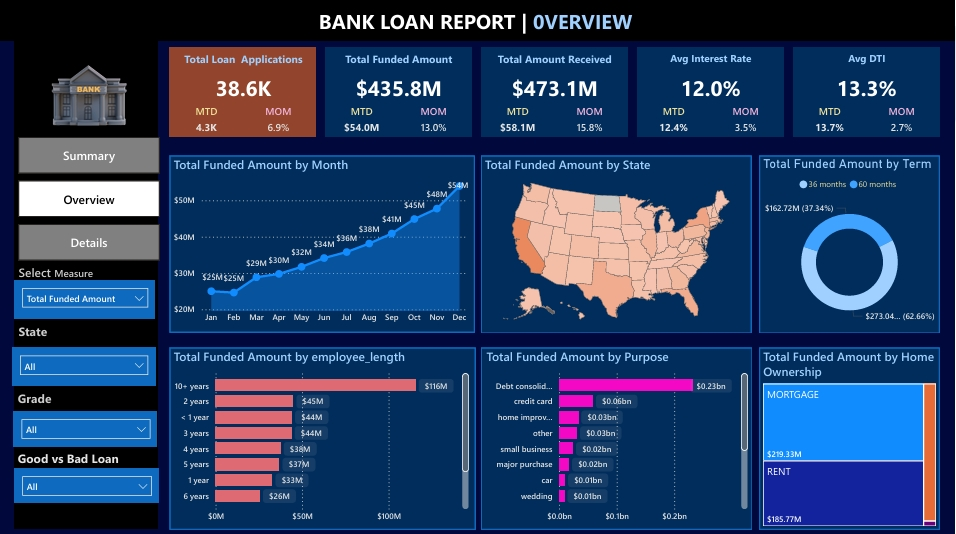

Layout of this report page (visuals, bound fields, positions):
{"tool":"powerbi","page":{"name":"Overview","canvas":[1280,720],"ordinal":1},"visuals":[{"type":"shape","box":[25.4,41.4,190.9,664.9],"z":0},{"type":"shape","box":[0,0,1280.4,55.7],"z":1000},{"type":"shape","box":[231.6,63.6,195.6,119.3],"z":1000,"group":"g1"},{"type":"shape","box":[439.3,63.6,195.6,119.3],"z":1000,"group":"g2"},{"type":"shape","box":[647.1,63.6,195.6,119.3],"z":1000,"group":"g3"},{"type":"shape","box":[854.8,63.6,195.6,119.3],"z":1000,"group":"g4"},{"type":"shape","box":[1062.5,63.6,195.6,119.3],"z":1000,"group":"g5"},{"type":"textbox","box":[413.6,4.8,451.7,47.7],"z":2000},{"type":"group","id":"g1","title":"Group 1","box":[231.6,63.6,195.6,119.3],"z":3000},{"type":"group","id":"g2","title":"Group 1","box":[439.3,63.6,195.6,119.3],"z":4000},{"type":"card","fields":{"Values":["bank_loan_data.Total Loan Applications"]},"box":[231.6,98.6,195.6,36.6],"z":4000,"group":"g1"},{"type":"card","fields":{"Values":["bank_loan_data.Total Funded Amount"]},"box":[439.3,98.6,195.6,36.6],"z":4000,"group":"g2"},{"type":"card","fields":{"Values":["bank_loan_data.Total Amount Received"]},"box":[647.1,98.6,195.6,36.6],"z":4000,"group":"g3"},{"type":"card","fields":{"Values":["bank_loan_data.Avg Interest Rate"]},"box":[854.8,98.6,195.6,36.6],"z":4000,"group":"g4"},{"type":"card","fields":{"Values":["bank_loan_data.Avg DTI"]},"box":[1062.5,98.6,195.6,36.6],"z":4000,"group":"g5"},{"type":"textbox","box":[231.6,63.6,195.6,35],"z":5000,"group":"g1"},{"type":"textbox","box":[439.3,63.6,195.6,35],"z":5000,"group":"g2"},{"type":"group","id":"g3","title":"Group 1","box":[647.1,63.6,195.6,119.3],"z":5000},{"type":"textbox","box":[647.1,63.6,195.6,35],"z":5000,"group":"g3"},{"type":"textbox","box":[854.8,63.6,195.6,35],"z":5000,"group":"g4"},{"type":"textbox","box":[1062.5,63.6,195.6,35],"z":5000,"group":"g5"},{"type":"group","id":"g4","title":"Group 1","box":[854.8,63.6,195.6,119.3],"z":6000},{"type":"card","title":"MTD","fields":{"Values":["bank_loan_data.MTD Loan Applications"]},"box":[245.9,139.9,68.4,42.9],"z":6000,"group":"g1"},{"type":"card","title":"MTD","fields":{"Values":["bank_loan_data.MTD Funded Amount"]},"box":[453.6,139.9,68.4,42.9],"z":6000,"group":"g2"},{"type":"card","title":"MTD","fields":{"Values":["bank_loan_data.MTD Total Amount Received"]},"box":[661.4,139.9,68.4,42.9],"z":6000,"group":"g3"},{"type":"card","title":"MTD","fields":{"Values":["bank_loan_data.MTD Avg Int Rate"]},"box":[869.1,139.9,68.4,42.9],"z":6000,"group":"g4"},{"type":"card","title":"MTD","fields":{"Values":["bank_loan_data.MTD Avg DTI"]},"box":[1076.8,139.9,68.4,42.9],"z":6000,"group":"g5"},{"type":"group","id":"g5","title":"Group 1","box":[1062.5,63.6,195.6,119.3],"z":7000},{"type":"card","title":"MOM","fields":{"Values":["bank_loan_data.MOM Loan Application"]},"box":[342.9,139.9,66.8,42.9],"z":7000,"group":"g1"},{"type":"card","title":"MOM","fields":{"Values":["bank_loan_data.MOM Total Funded Application"]},"box":[550.6,139.9,66.8,42.9],"z":7000,"group":"g2"},{"type":"card","title":"MOM","fields":{"Values":["bank_loan_data.MOM Amount Received"]},"box":[758.4,139.9,66.8,42.9],"z":7000,"group":"g3"},{"type":"card","title":"MOM","fields":{"Values":["bank_loan_data.MOM Total Avg Int Rate"]},"box":[966.1,139.9,66.8,42.9],"z":7000,"group":"g4"},{"type":"card","title":"MOM","fields":{"Values":["bank_loan_data.MOM Avg DTI"]},"box":[1173.8,139.9,66.8,42.9],"z":7000,"group":"g5"},{"type":"slicer","fields":{"Values":["bank_loan_data.address_state"]},"box":[22.3,464.5,190.9,50.9],"z":8000},{"type":"textbox","box":[25.4,426.3,70,38.2],"z":9000},{"type":"slicer","fields":{"Values":["bank_loan_data.grade"]},"box":[23.9,548.8,192.5,47.7],"z":10000},{"type":"textbox","box":[23.9,515.4,71.6,33.4],"z":11000},{"type":"slicer","fields":{"Values":["bank_loan_data.Good vs Bad Loan"]},"box":[25.4,625.1,192.5,46.1],"z":12000},{"type":"textbox","box":[23.9,596.5,144.7,39.8],"z":13000},{"type":"shape","box":[232.2,208.4,406,235],"z":14000},{"type":"areaChart","fields":{"Y":["bank_loan_data.Total Funded Amount"],"Category":["Date Table.Month"]},"box":[232.2,208.4,402.4,232.2],"z":15000},{"type":"slicer","fields":{"Values":["Select Measure.Select Measure"]},"box":[25.4,373.8,187.7,52.5],"z":16000},{"type":"textbox","box":[25.4,346.8,117.7,41.4],"z":17000},{"type":"shape","box":[647.4,208.4,360,235.4],"z":18000},{"type":"shapeMap","fields":{"Value":["bank_loan_data.Total Funded Amount"],"Category":["bank_loan_data.address_state"]},"box":[647.4,208.4,359.5,232.2],"z":19000},{"type":"shape","box":[1018,208.4,240.2,235.4],"z":20000},{"type":"donutChart","fields":{"Y":["bank_loan_data.Total Funded Amount"],"Category":["bank_loan_data.term"]},"box":[1018,208.4,240.2,237],"z":21000},{"type":"shape","box":[232.2,464.5,407.2,241.8],"z":22000},{"type":"barChart","fields":{"Y":["bank_loan_data.Total Funded Amount"],"Category":["bank_loan_data.emp_length"]},"box":[232.2,464.5,402.4,241.8],"z":23000},{"type":"shape","box":[647.4,464.5,361.1,241.8],"z":24000},{"type":"barChart","fields":{"Y":["bank_loan_data.Total Funded Amount"],"Category":["bank_loan_data.purpose"]},"box":[649,464.5,357.9,241.8],"z":25000},{"type":"shape","box":[1018,464.5,240.2,241.8],"z":26000},{"type":"treemap","fields":{"Values":["bank_loan_data.Total Funded Amount"],"Group":["bank_loan_data.home_ownership"]},"box":[1018,464.5,240.2,241.8],"z":27000},{"type":"pageNavigator","box":[30.2,182.9,187.7,163.8],"z":28000},{"type":"image","box":[30.2,63.6,186.1,119.3],"z":29000}]}

Visuals, with their boxes in screenshot pixels (x1, y1, x2, y2), scaled from the page's 1280x720 canvas onto the 956x534 screenshot:
shape: 19 31 162 524
shape: 0 0 955 41
shape: 173 47 319 136
shape: 328 47 474 136
shape: 483 47 629 136
shape: 638 47 785 136
shape: 794 47 940 136
textbox: 309 4 646 39
"Group 1" group: 173 47 319 136
"Group 1" group: 328 47 474 136
card - bank_loan_data.Total Loan Applications: 173 73 319 100
card - bank_loan_data.Total Funded Amount: 328 73 474 100
card - bank_loan_data.Total Amount Received: 483 73 629 100
card - bank_loan_data.Avg Interest Rate: 638 73 785 100
card - bank_loan_data.Avg DTI: 794 73 940 100
textbox: 173 47 319 73
textbox: 328 47 474 73
"Group 1" group: 483 47 629 136
textbox: 483 47 629 73
textbox: 638 47 785 73
textbox: 794 47 940 73
"Group 1" group: 638 47 785 136
"MTD" card: 184 104 235 136
"MTD" card: 339 104 390 136
"MTD" card: 494 104 545 136
"MTD" card: 649 104 700 136
"MTD" card: 804 104 855 136
"Group 1" group: 794 47 940 136
"MOM" card: 256 104 306 136
"MOM" card: 411 104 461 136
"MOM" card: 566 104 616 136
"MOM" card: 722 104 771 136
"MOM" card: 877 104 927 136
slicer - bank_loan_data.address_state: 17 345 159 382
textbox: 19 316 71 345
slicer - bank_loan_data.grade: 18 407 162 442
textbox: 18 382 71 407
slicer - bank_loan_data.Good vs Bad Loan: 19 464 163 498
textbox: 18 442 126 472
shape: 173 155 477 329
areaChart - bank_loan_data.Total Funded Amount x Date Table.Month: 173 155 474 327
slicer - Select Measure.Select Measure: 19 277 159 316
textbox: 19 257 107 288
shape: 484 155 752 329
shapeMap - bank_loan_data.Total Funded Amount x bank_loan_data.address_state: 484 155 752 327
shape: 760 155 940 329
donutChart - bank_loan_data.Total Funded Amount x bank_loan_data.term: 760 155 940 330
shape: 173 345 478 524
barChart - bank_loan_data.Total Funded Amount x bank_loan_data.emp_length: 173 345 474 524
shape: 484 345 753 524
barChart - bank_loan_data.Total Funded Amount x bank_loan_data.purpose: 485 345 752 524
shape: 760 345 940 524
treemap - bank_loan_data.Total Funded Amount x bank_loan_data.home_ownership: 760 345 940 524
pageNavigator: 23 136 163 257
image: 23 47 162 136
